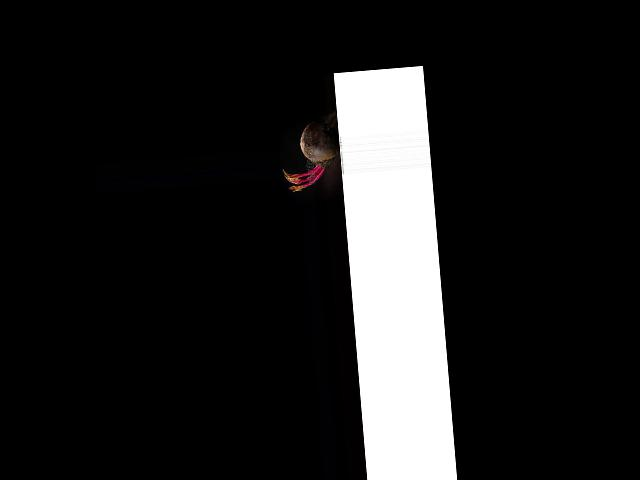beet: (278, 108, 343, 192)
